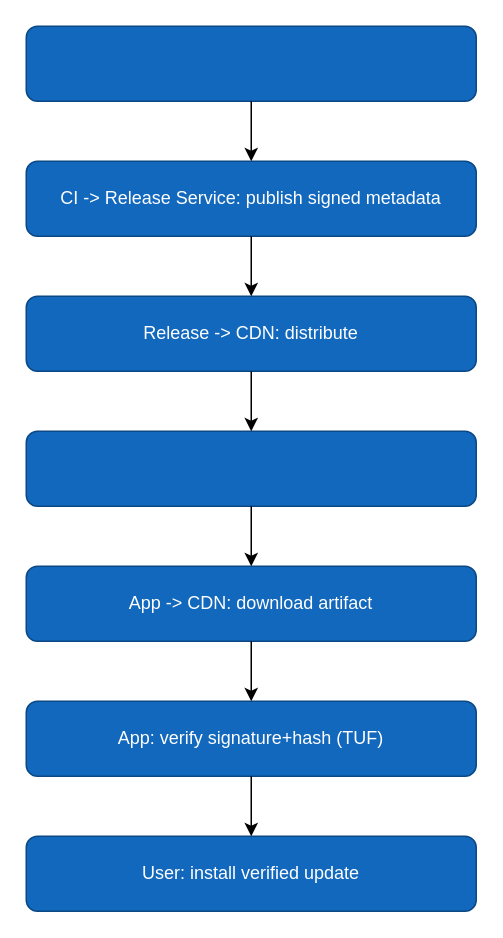
This 503x938 diagram has some shape labels left out. The shapes that lost their labels are listed below. From the top down, each one's centre as x and y in pixels, then its label:
(x=250, y=63): CI: build,test,SBOM,sign
(x=250, y=468): App -> Release: check latest
